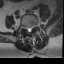CCS_normal: (28, 24, 30, 34)
LFS_normal: (32, 22, 34, 30)
LLS_normal: (30, 24, 32, 32)
RFS_normal: (24, 24, 26, 31)
RLS_normal: (26, 24, 28, 33)
